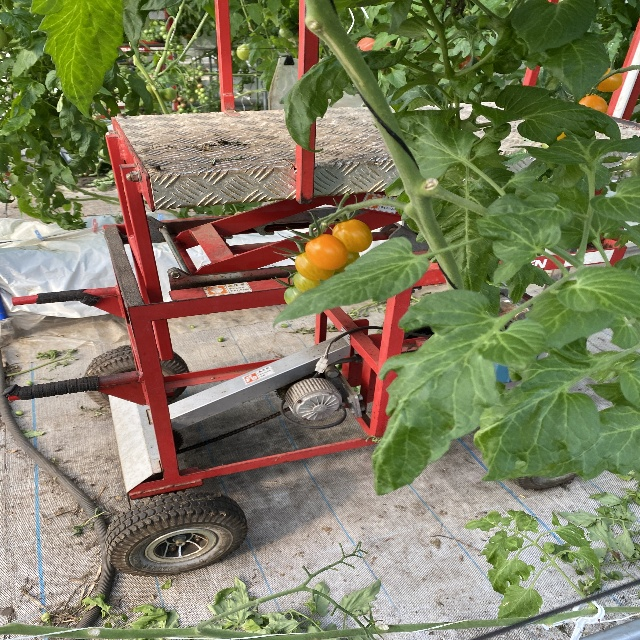l_fully_ripened: (306, 234, 349, 270)
l_half_ripened: (332, 220, 373, 253), (295, 251, 334, 282), (597, 67, 624, 93), (293, 272, 321, 292), (579, 94, 607, 113), (284, 286, 303, 305)
